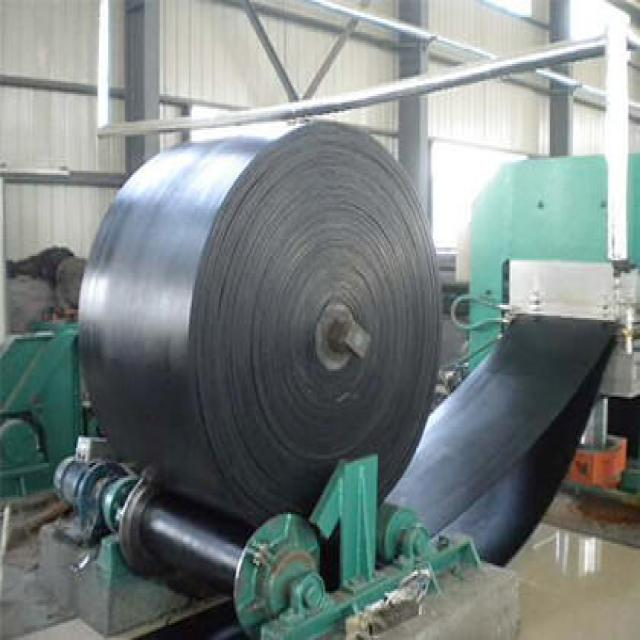conveyor: (64, 61, 624, 592)
